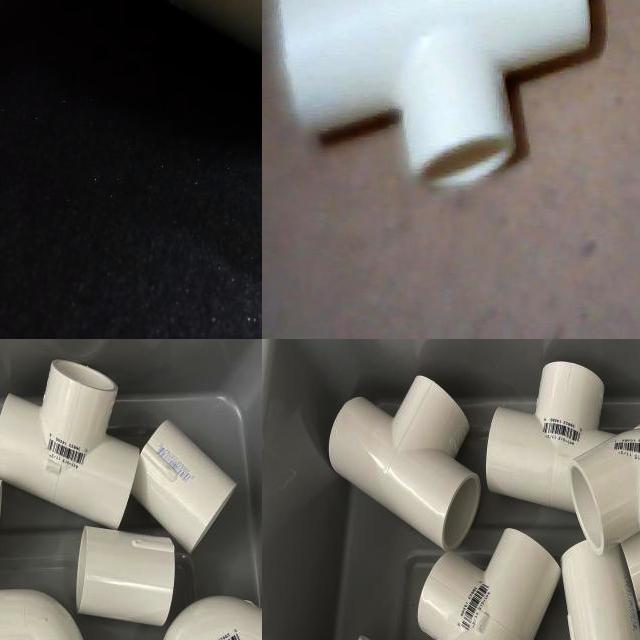L Joint: (571, 429, 640, 555), (163, 596, 262, 640), (0, 589, 85, 640)
T Joint: (271, 0, 604, 191), (329, 375, 483, 552), (0, 360, 140, 531), (417, 528, 561, 640)
